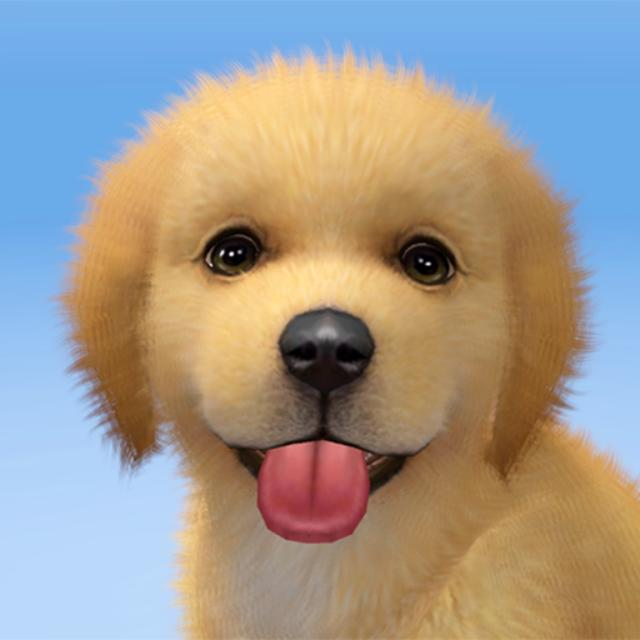dog: (70, 74, 638, 638)
